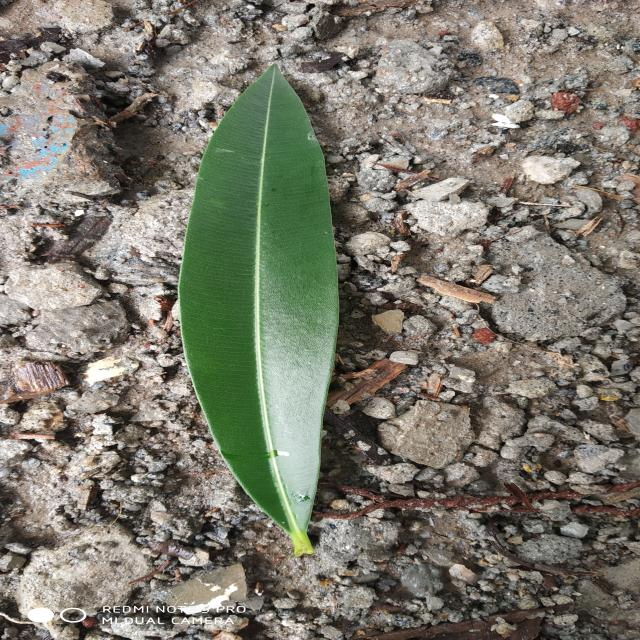ganigale: (180, 66, 338, 556)
